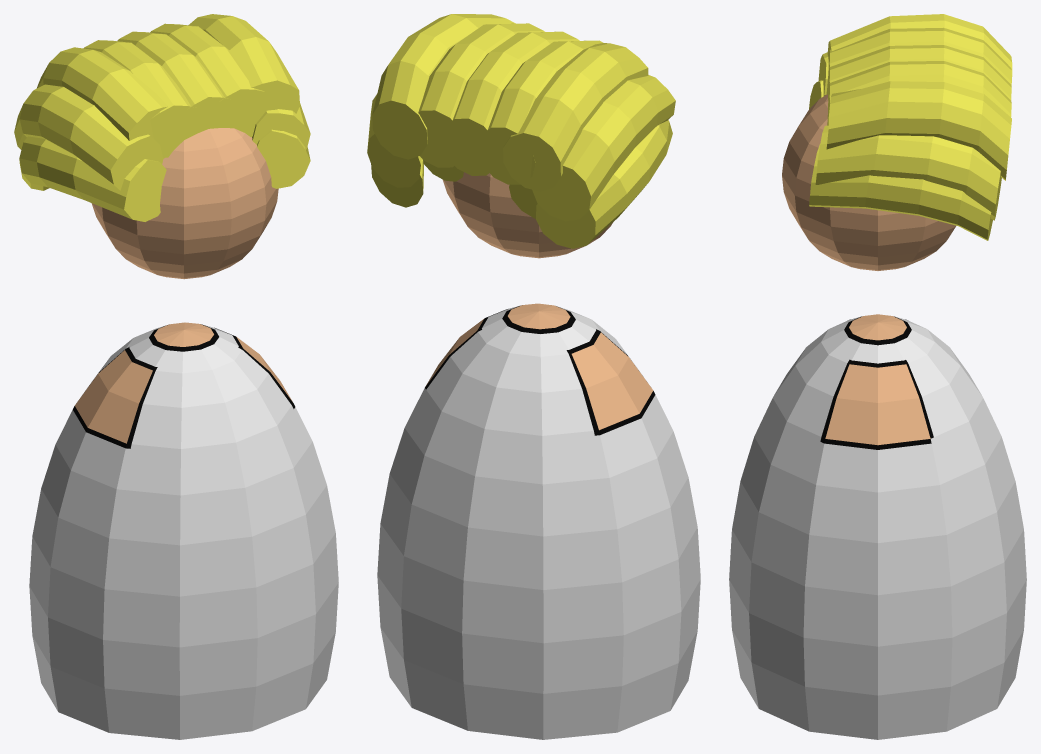
The model's file is hakari.glb.
The picture shows the model from 3 angles, left to right: view 1: azimuth 30°, elevation 25°; view 2: azimuth 150°, elevation 25°; view 3: azimuth 270°, elevation 25°; orthographic projection. The views are drawn at different scales.
Visible parts, largest first — view 1: Esfera.013, Esfera.014, Cilindro.023, Cilindro.027, Cilindro.022, Cilindro.018, Cilindro.019, Cilindro.020, Cilindro.021, Cilindro.028, Cilindro.024; view 2: Esfera.013, Cilindro.022, Cilindro.023, Cilindro.020, Cilindro.018, Cilindro.019, Esfera.014, Cilindro.027, Cilindro.021, Cilindro.024, Cilindro.028, Cilindro.025; view 3: Esfera.013, Esfera.014, Cilindro.020, Cilindro.024, Cilindro.028, Cilindro.019, Cilindro.021, Cilindro.018, Cilindro.022.
Part boxes in pixels (box(x1,y1,x2,y2)): Esfera.013: box(29, 322, 338, 739); Esfera.014: box(91, 128, 278, 279); Cilindro.023: box(14, 84, 163, 190); Cilindro.027: box(19, 136, 166, 221); Cilindro.022: box(36, 47, 167, 158); Cilindro.018: box(117, 31, 236, 139); Cilindro.019: box(150, 23, 268, 136); Cilindro.020: box(188, 14, 299, 113); Cilindro.021: box(83, 40, 201, 157); Cilindro.028: box(257, 129, 310, 188); Cilindro.024: box(252, 103, 310, 149); Esfera.013: box(377, 303, 700, 739); Cilindro.022: box(503, 43, 648, 191); Cilindro.023: box(532, 75, 675, 221); Cilindro.020: box(372, 14, 515, 159); Cilindro.018: box(441, 31, 579, 175); Cilindro.019: box(418, 23, 544, 167); Esfera.014: box(443, 172, 612, 258); Cilindro.027: box(536, 120, 672, 248); Cilindro.021: box(478, 40, 603, 184); Cilindro.024: box(367, 94, 421, 187); Cilindro.028: box(371, 158, 423, 207); Cilindro.025: box(509, 184, 537, 219); Esfera.013: box(729, 314, 1026, 739); Esfera.014: box(782, 94, 955, 270); Cilindro.020: box(826, 81, 1011, 180); Cilindro.024: box(815, 125, 1001, 220); Cilindro.028: box(809, 144, 992, 240); Cilindro.019: box(827, 61, 1011, 125); Cilindro.021: box(826, 27, 1011, 96); Cilindro.018: box(827, 45, 1011, 117); Cilindro.022: box(827, 14, 1012, 85).
Size of the model in its own units: 14.44 by 31.6 by 13.53.
